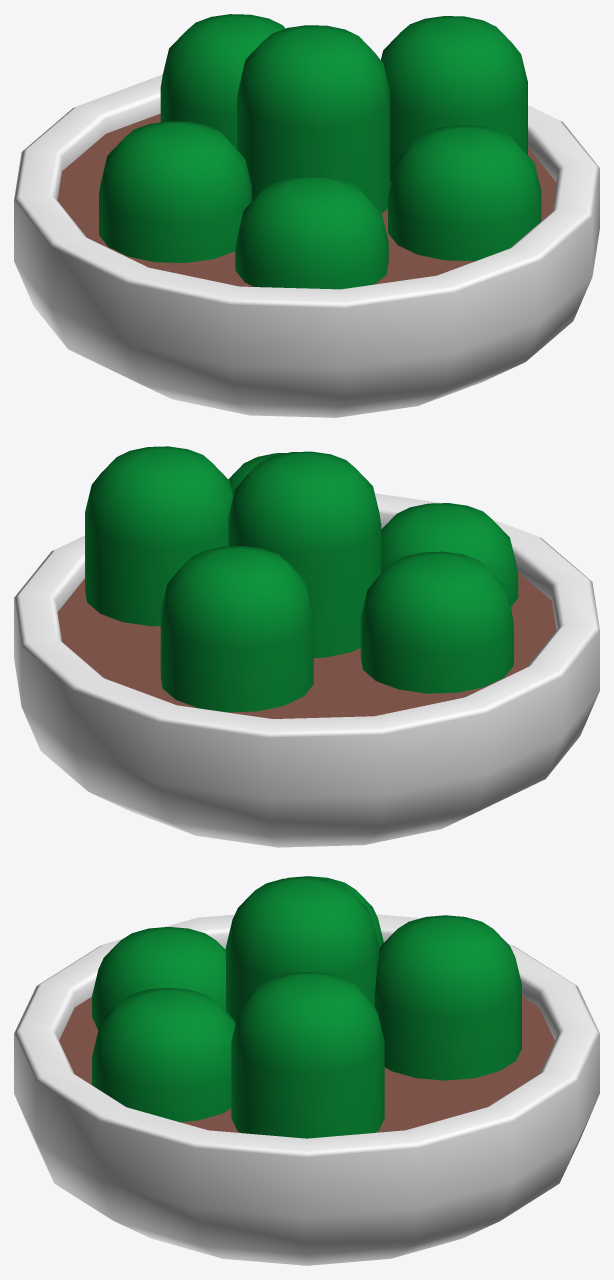
File: Town_1_Plant_4.glb
3 renders of one model, top to bottom at view 1: azimuth 30°, elevation 25°; view 2: azimuth 150°, elevation 25°; view 3: azimuth 270°, elevation 25°, orthographic.
Visible parts, largest first — view 1: Town_1_Plant_4; view 2: Town_1_Plant_4; view 3: Town_1_Plant_4.
Part boxes in pixels (x1,y1,x2,y2): Town_1_Plant_4: [14, 14, 599, 417]; Town_1_Plant_4: [14, 446, 599, 847]; Town_1_Plant_4: [14, 876, 599, 1265].
Bounding box in the file's own units: 0.4592 × 0.2558 × 0.4592.
1 material, 1 textured.
